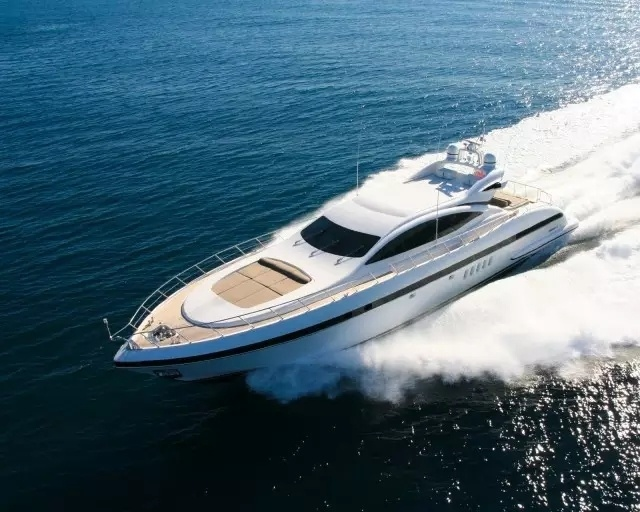yacht: (109, 118, 584, 370)
